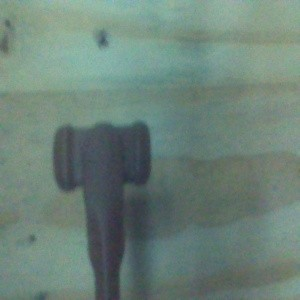palu: (51, 120, 152, 300)
